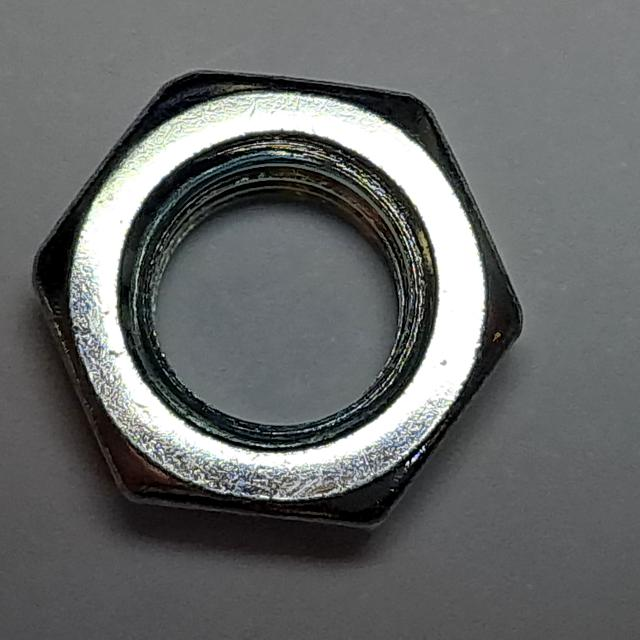Excellent: (8, 55, 541, 544)
